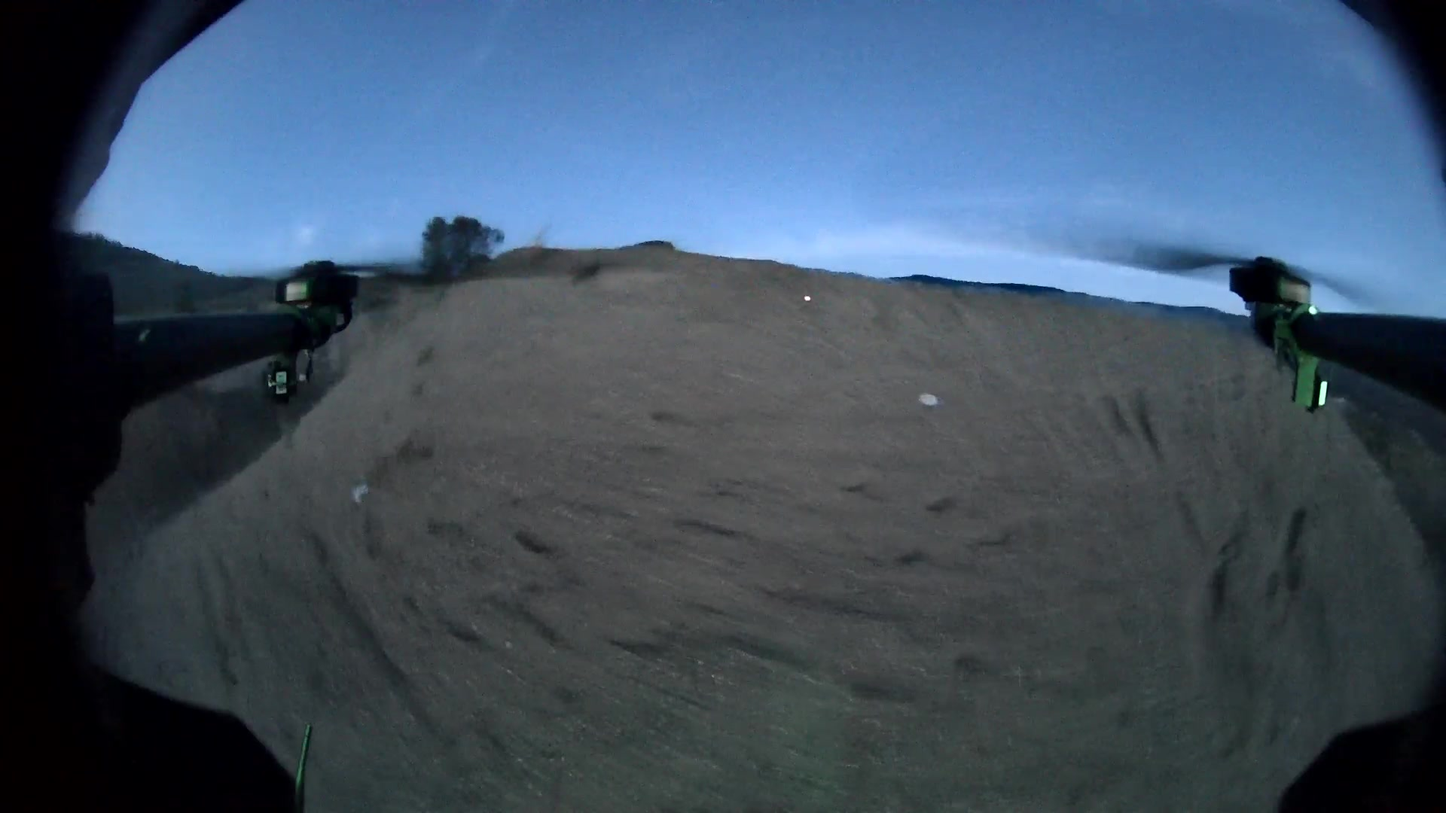Target: (919, 391, 937, 406)
